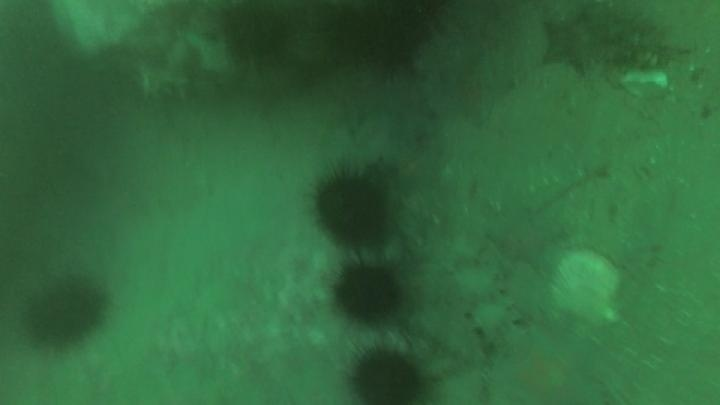echinus: (323, 2, 452, 75), (21, 271, 110, 352), (310, 167, 393, 249), (330, 258, 406, 326), (346, 344, 428, 404), (217, 3, 294, 65)
scallop: (547, 248, 624, 328)
starfish: (488, 326, 604, 405), (435, 48, 515, 128), (485, 206, 568, 274), (538, 16, 603, 74)
